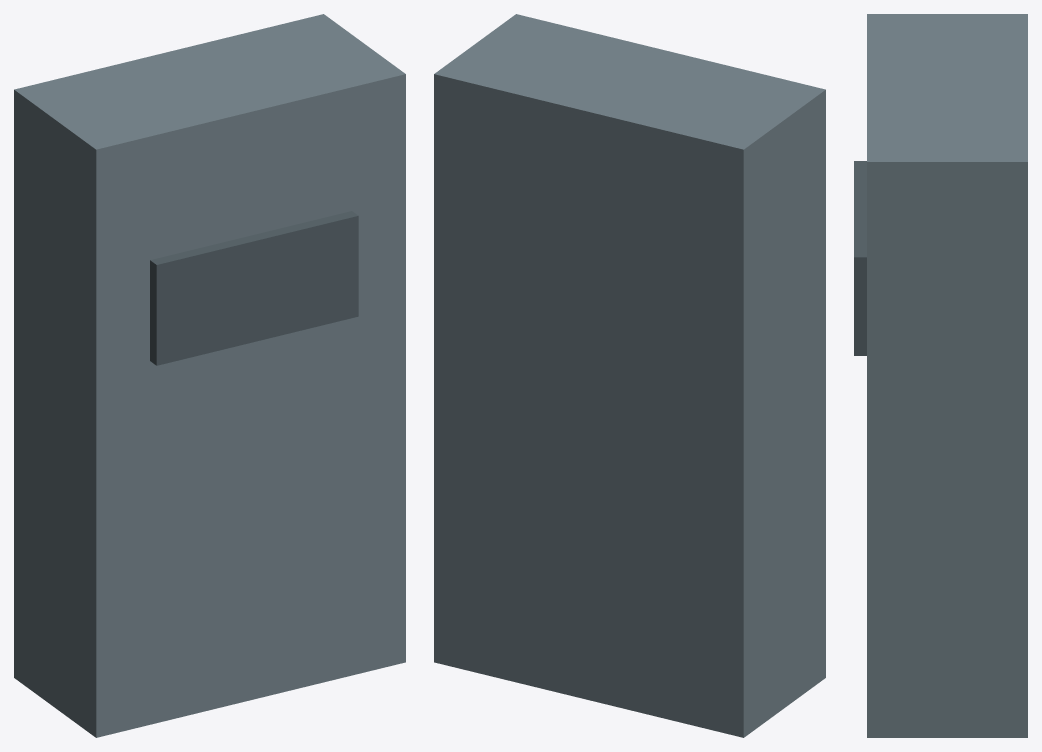
File: panel_lod0.glb
The picture shows the model from 3 angles, left to right: view 1: azimuth 30°, elevation 25°; view 2: azimuth 150°, elevation 25°; view 3: azimuth 270°, elevation 25°; orthographic projection. The views are drawn at different scales.
Parts seen in each view (by area): view 1: cabinet, screen; view 2: cabinet; view 3: cabinet, screen.
Boxes of the visible parts, bbox=[...] form: cabinet: bbox=[14, 14, 405, 737]; screen: bbox=[150, 211, 358, 365]; cabinet: bbox=[434, 14, 825, 737]; cabinet: bbox=[867, 14, 1027, 737]; screen: bbox=[854, 161, 866, 355].
Size of the model in its own units: 1.35 by 2.45 by 0.67.
